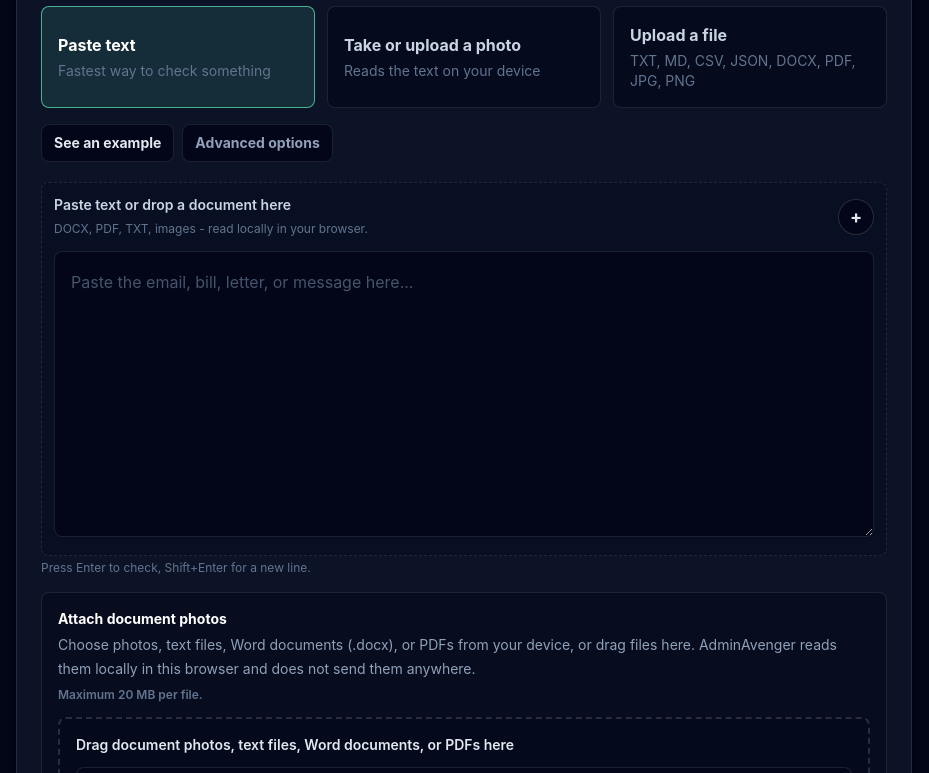
Test: local extraction does not bypass the front door › asks the care question instead of extracting facts from a care sentence
(page scrolled)
Type "My father needs care." into the text box labelled "Paste text or drop a document here" at (464, 394), box [54, 251, 874, 537]
(page scrolled)
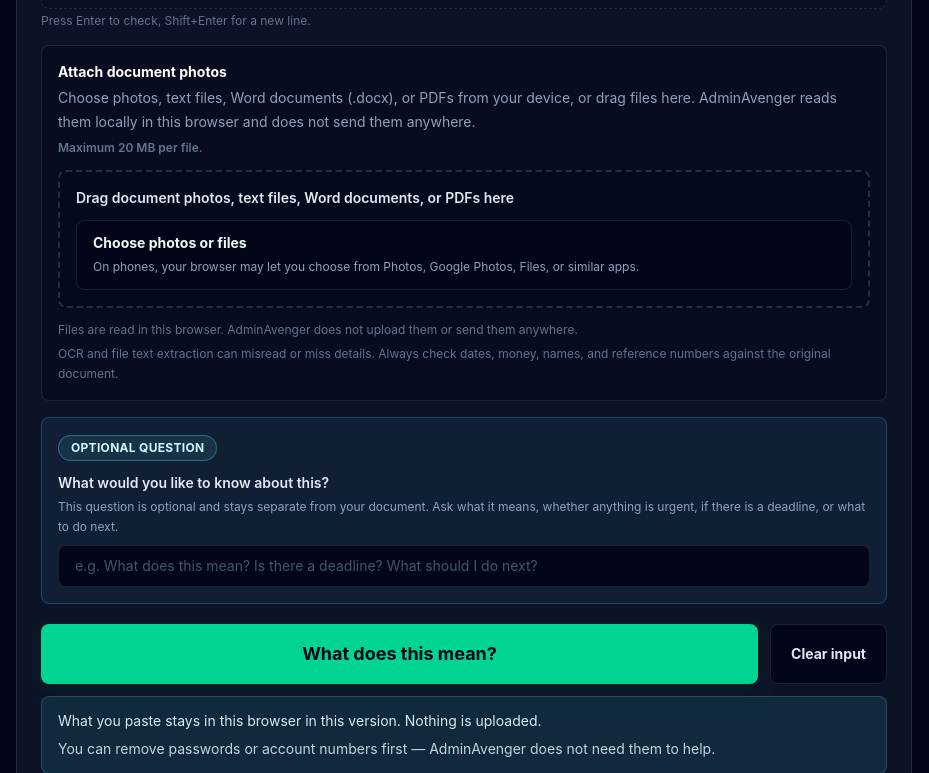
Click the button "What does this mean?" at (400, 654), box [41, 624, 758, 684]
(page scrolled)
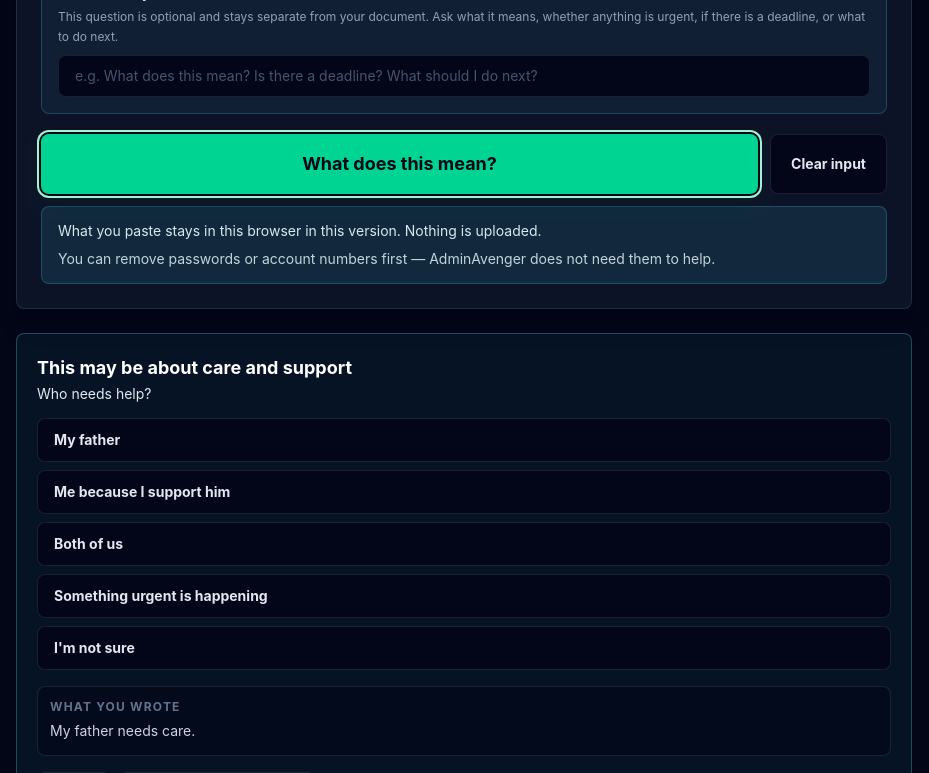
Expected: the text "Who needs help?" is shown, [37, 382, 152, 406]
